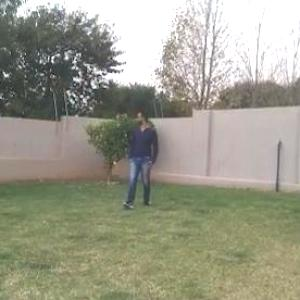follow: (126, 110, 152, 211)
